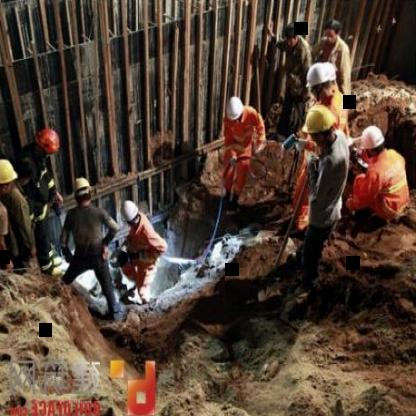head: (322, 16, 344, 46), (284, 20, 302, 48)
helmet: (305, 61, 337, 105), (304, 106, 336, 144), (32, 127, 62, 164), (358, 124, 386, 160), (70, 176, 96, 208), (119, 196, 143, 230), (0, 157, 20, 195), (224, 93, 246, 127)
